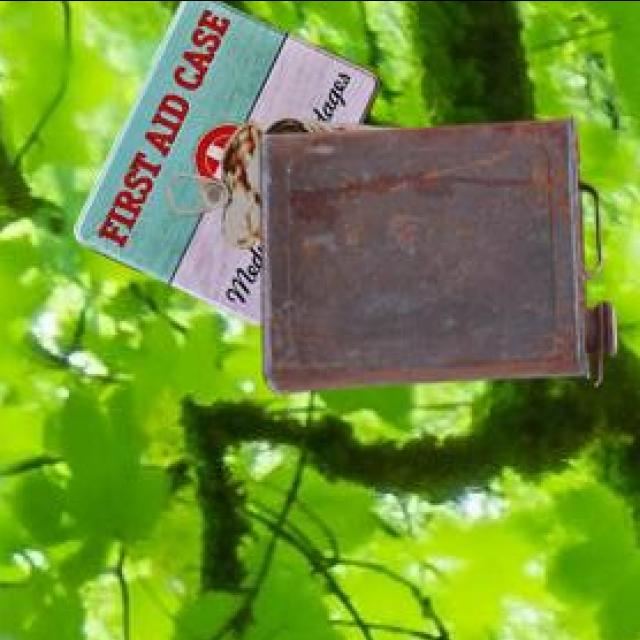logam: (73, 0, 376, 328), (257, 119, 614, 397), (165, 119, 395, 252)
